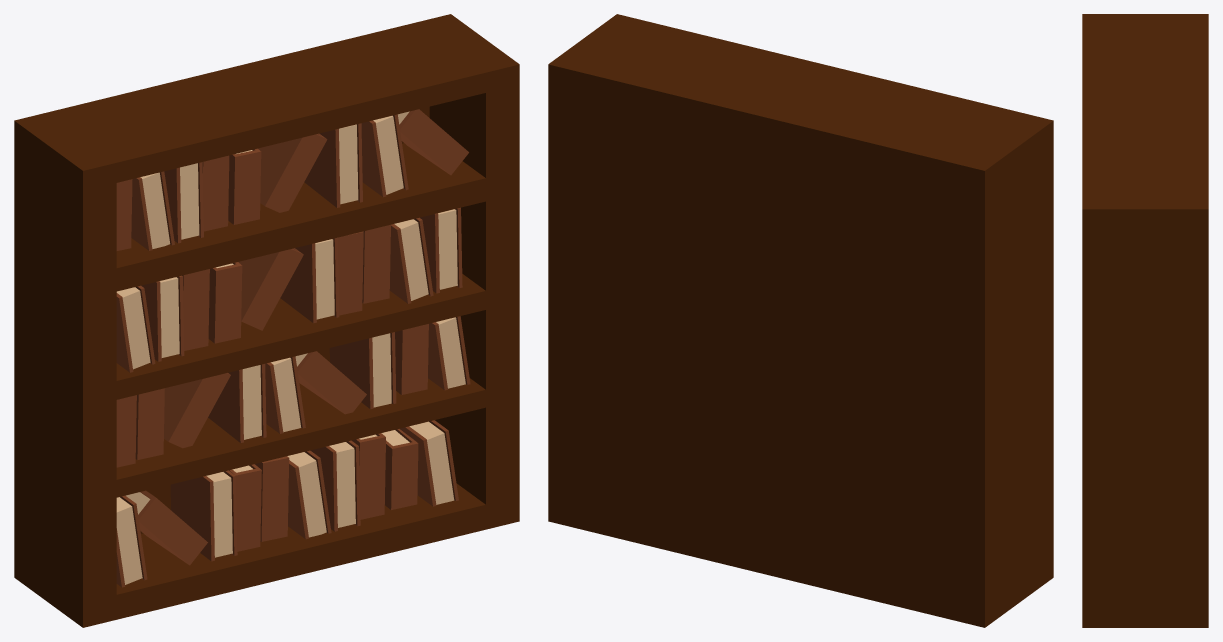
The model's file is regal.glb.
3 renders of one model, left to right at view 1: azimuth 30°, elevation 25°; view 2: azimuth 150°, elevation 25°; view 3: azimuth 270°, elevation 25°, orthographic. The views are drawn at different scales.
Parts seen in each view (by area): view 1: Regal, Book.001, Book.015, Book.033, Book.025, Book.034, Book.023, Book.016, Book.005, Book.036, Book.022, Book.006 (+27 smaller); view 2: Regal; view 3: Regal.
Part boxes in pixels (left/top/right/bottom): Regal: left=14, top=14, right=519, bottom=627; Book.001: left=170, top=470, right=237, bottom=561; Book.015: left=280, top=237, right=339, bottom=323; Book.033: left=304, top=123, right=362, bottom=207; Book.025: left=329, top=332, right=396, bottom=409; Book.034: left=258, top=133, right=327, bottom=212; Book.023: left=208, top=364, right=266, bottom=442; Book.016: left=238, top=248, right=303, bottom=330; Book.005: left=287, top=450, right=331, bottom=539; Book.036: left=361, top=114, right=408, bottom=197; Book.022: left=164, top=373, right=230, bottom=448; Book.006: left=399, top=420, right=458, bottom=506; Regal: left=548, top=14, right=1053, bottom=627; Regal: left=1082, top=14, right=1208, bottom=627.
Bounding box in the file's own units: 4 × 4 × 1.09.
